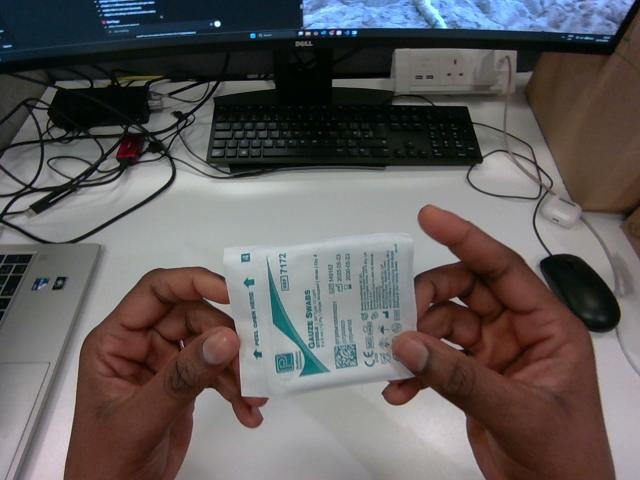gauze: (224, 233, 416, 396)
